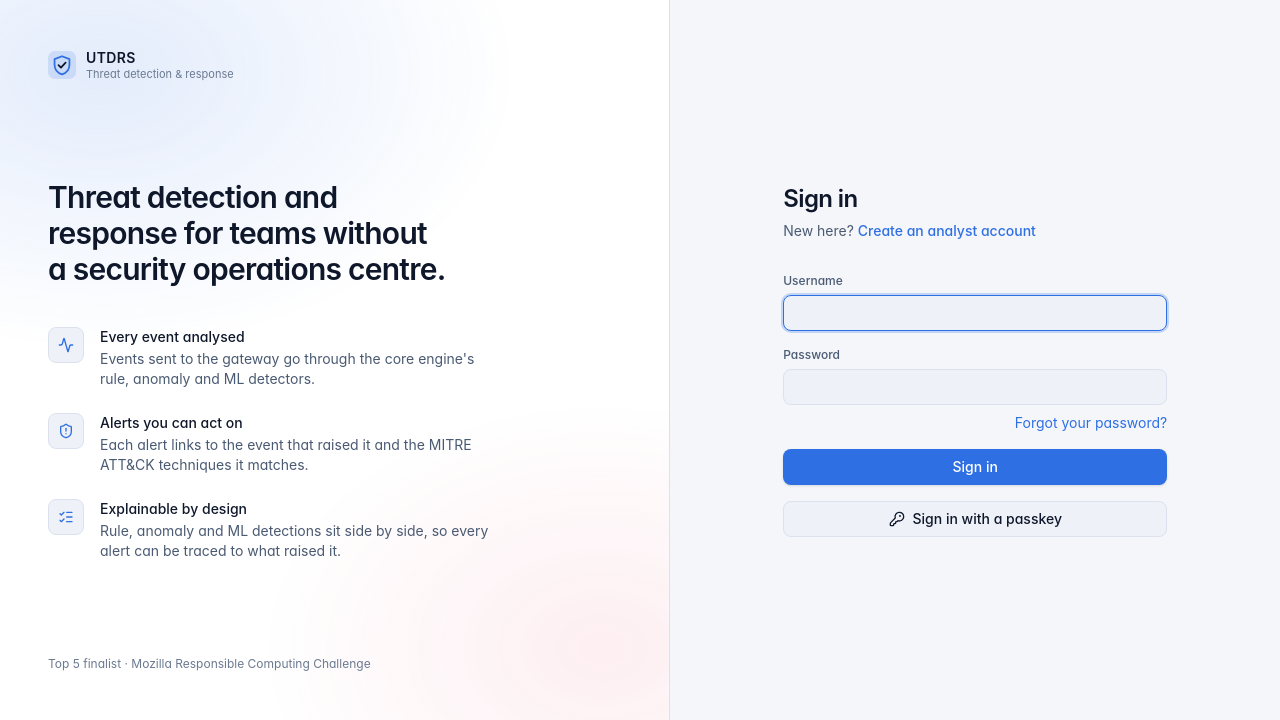
Test: passkeys › says so when the person cancels
Step 1. Click the button "Sign in with a passkey" → (975, 519), box [783,501,1167,537]
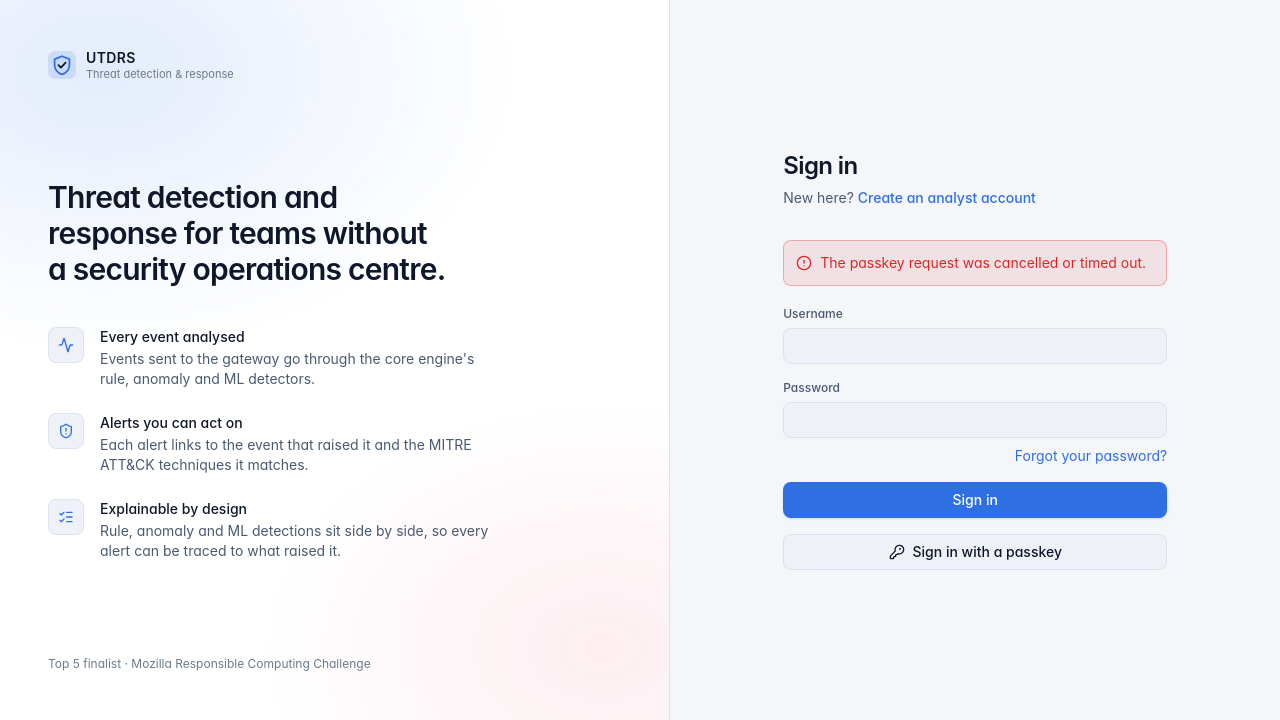
Expected: the text "The passkey request was cancelled or timed out." is shown, [820,253,1146,273]
